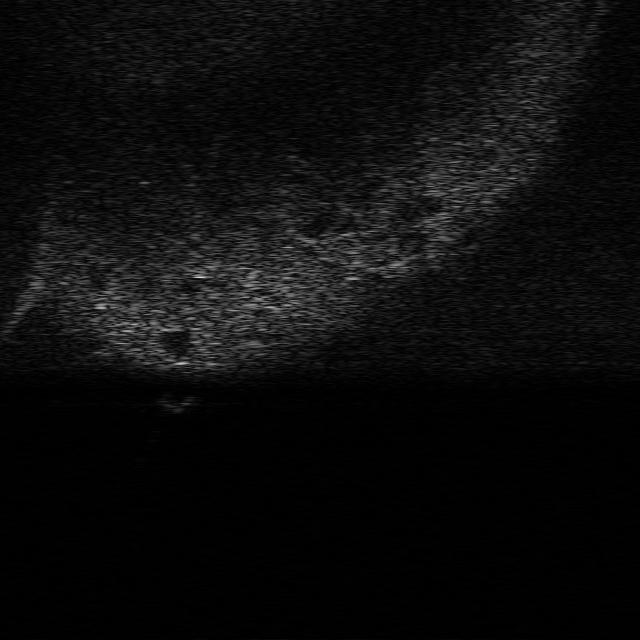cube: (155, 389, 195, 412)
